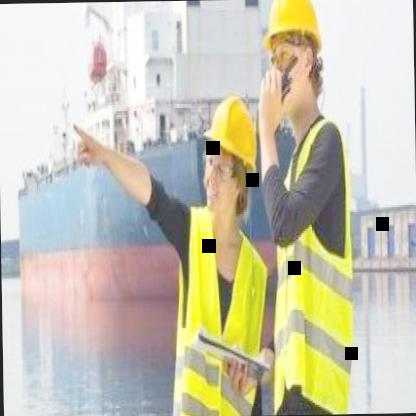helmet: (197, 78, 262, 236), (258, 0, 330, 114)
